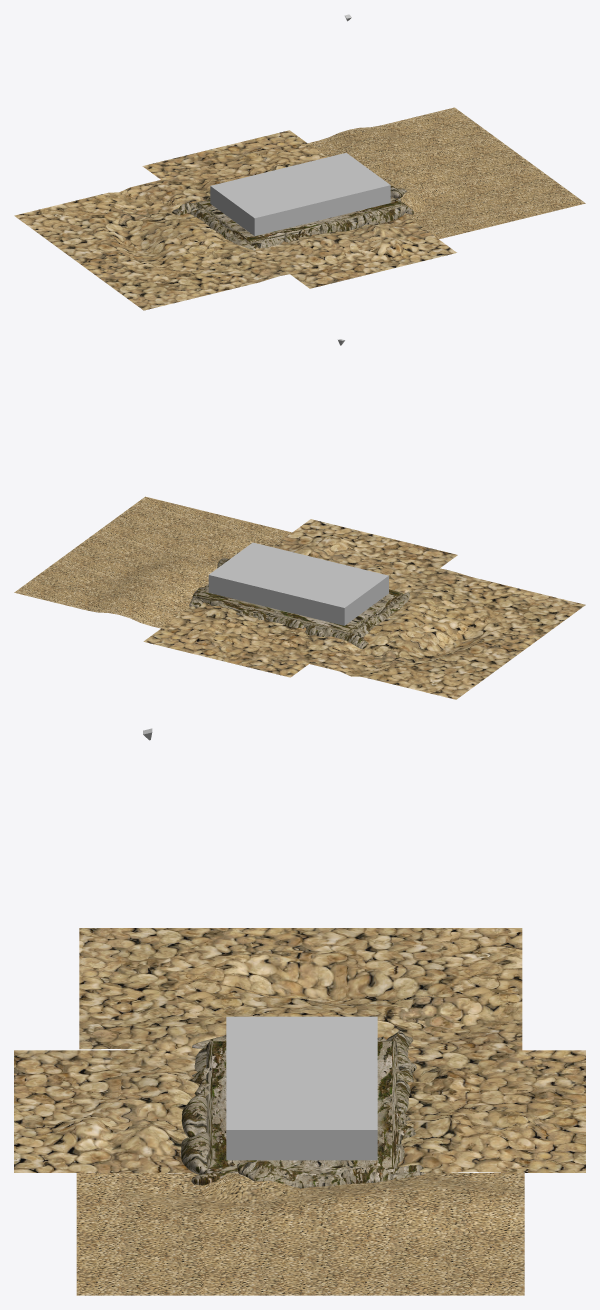
File: marMapv4.FBX
3 renders of one model, top to bottom at view 1: azimuth 30°, elevation 25°; view 2: azimuth 150°, elevation 25°; view 3: azimuth 270°, elevation 25°, orthographic. The views are drawn at different scales.
Visible parts, largest first — view 1: playField, worldBoundsinv; view 2: playField, worldBoundsinv; view 3: playField, worldBoundsinv.
Boxes of the visible parts, x1=… form: playField: x1=14, y1=107, x2=585, y2=310; worldBoundsinv: x1=210, y1=152, x2=390, y2=235; playField: x1=14, y1=496, x2=585, y2=699; worldBoundsinv: x1=208, y1=542, x2=388, y2=625; playField: x1=14, y1=928, x2=585, y2=1295; worldBoundsinv: x1=226, y1=1016, x2=377, y2=1160.
Bounding box in the file's own units: 906 × 596 × 464.
